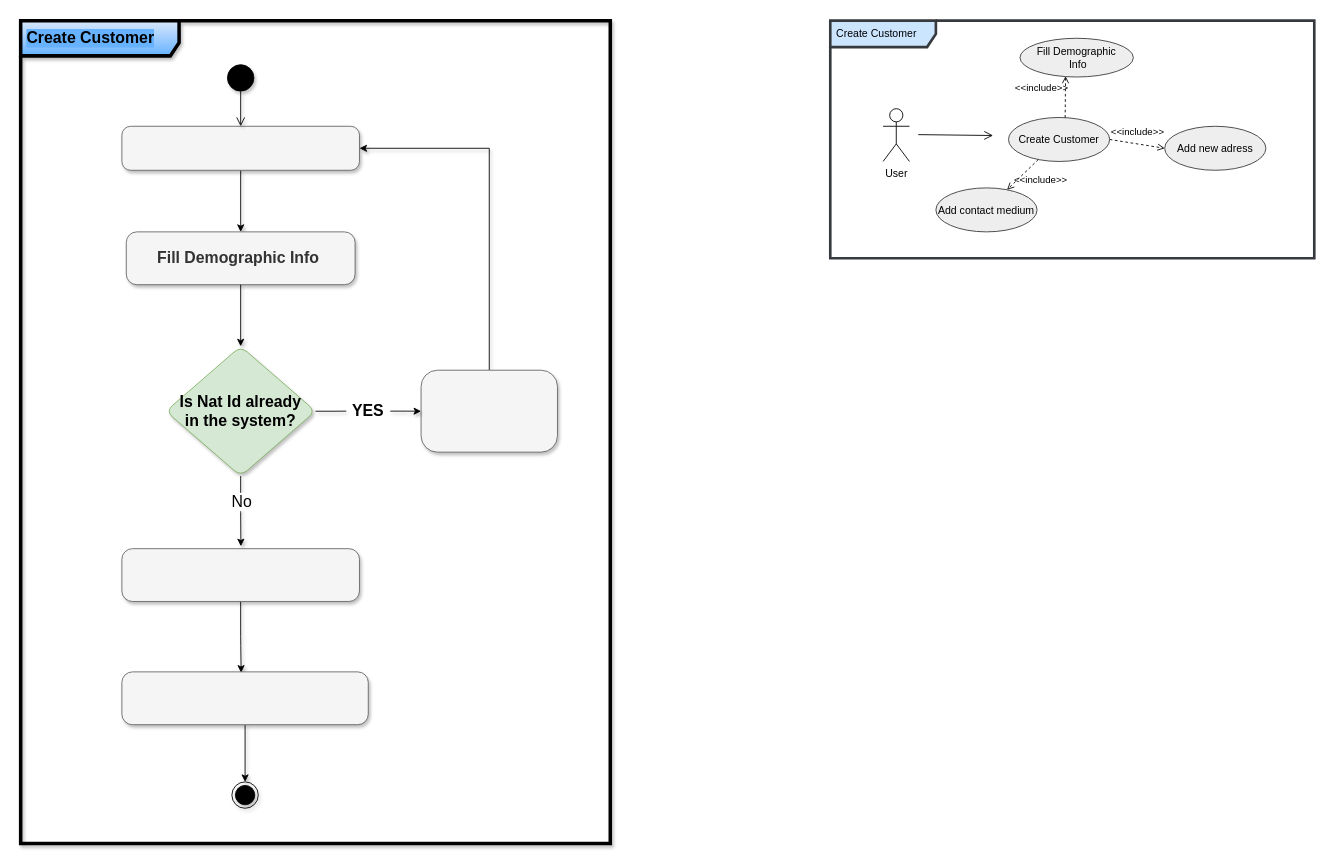
This 1331x866 diagram has some shape labels left out. Here are the shapes that lost their labels. From the top down, the centre of each, then its label:
At point 241,149: "Go to Create Customer Page".
At point 490,412: "Warning message (A customer already exists with this Nationality ID.)".
At point 241,576: "Adress Info Page".
At point 245,699: "Contanct Medium".
